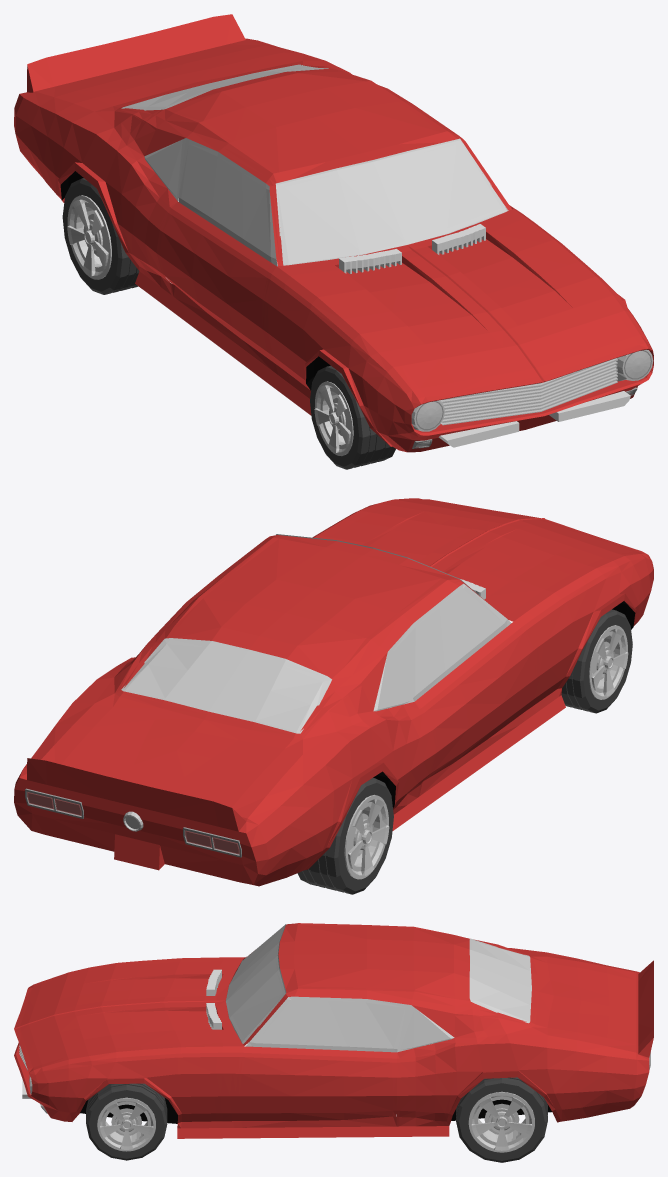
The model's file is Chevrolet_Camaro_SS_a1.dae.
3 renders of one model, top to bottom at view 1: azimuth 30°, elevation 25°; view 2: azimuth 150°, elevation 25°; view 3: azimuth 270°, elevation 25°, orthographic. The views are drawn at different scales.
Parts seen in each view (by area): view 1: Carroceria_001, Parabrisas_Ad, Pueratas, Ventana_1, Rejilla, Ruedas_Ad_002, Ruedas_Tr, Rin_1_Tr, Plano_002, Rin_1_Ad, Cubo, Parabrisas_Tr (+4 smaller); view 2: Carroceria_001, Parabrisas_Tr, Pueratas, Ventana_1, Ruedas_Tr, Ruedas_Ad_002, Rin_1_Tr, Rin_1_Ad, Luz_Tr, Marco_Parabrisad_Tr, Ventana_2; view 3: Carroceria_001, Pueratas, Ventana_1, Parabrisas_Ad, Parabrisas_Tr, Ruedas_Tr_001, Ruedas_Ad_001, Rin_1_Tr_001, Rin_1_Ad_001, Ventana_2, Cubo, Marco_Ventana_2 (+2 smaller).
Part boxes in pixels (x1,y1,x2,y2): Carroceria_001: (14, 14, 653, 452); Parabrisas_Ad: (277, 140, 507, 264); Pueratas: (156, 202, 519, 367); Ventana_1: (178, 138, 277, 266); Rejilla: (441, 358, 617, 425); Ruedas_Ad_002: (310, 365, 395, 469); Ruedas_Tr: (62, 178, 139, 294); Rin_1_Tr: (67, 195, 111, 279); Plano_002: (438, 391, 630, 447); Rin_1_Ad: (314, 381, 353, 455); Cubo: (339, 224, 485, 273); Parabrisas_Tr: (124, 65, 326, 109); Carroceria_001: (14, 498, 653, 886); Parabrisas_Tr: (124, 639, 329, 731); Pueratas: (415, 622, 540, 780); Ventana_1: (388, 583, 511, 701); Ruedas_Tr: (297, 778, 393, 894); Ruedas_Ad_002: (561, 609, 632, 713); Rin_1_Tr: (344, 794, 389, 879); Rin_1_Ad: (589, 625, 628, 699); Luz_Tr: (25, 788, 241, 857); Marco_Parabrisad_Tr: (121, 638, 331, 733); Ventana_2: (377, 659, 411, 709); Carroceria_001: (14, 923, 653, 1138); Pueratas: (230, 957, 396, 1120); Ventana_1: (245, 996, 411, 1052); Parabrisas_Ad: (226, 925, 285, 1043); Parabrisas_Tr: (471, 939, 530, 1021); Ruedas_Tr_001: (456, 1077, 547, 1162); Ruedas_Ad_001: (86, 1083, 167, 1160); Rin_1_Tr_001: (468, 1091, 534, 1152); Rin_1_Ad_001: (97, 1097, 155, 1151); Ventana_2: (400, 1010, 450, 1049); Cubo: (206, 969, 221, 1029); Marco_Ventana_2: (397, 1005, 454, 1052).
Size of the model in its own units: 3.92 by 9.85 by 2.68.
